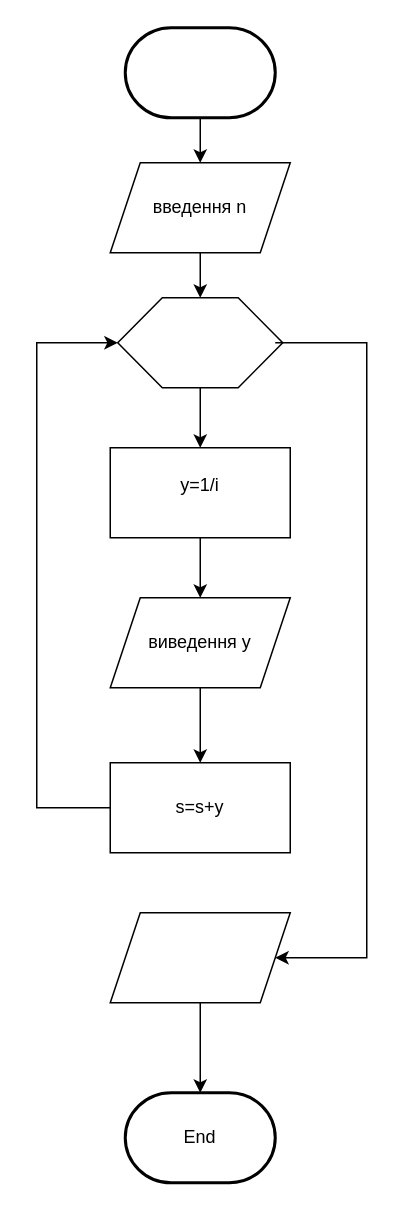
Image size: 405x1209. Some labels were removed from this diagram. The box of each missing label's shape, as (x1, y1, x2, y2) in pixels:
i=1;i<=n;i++: (116, 296, 283, 388)
Start: (123, 26, 276, 118)
виведення s: (109, 911, 290, 1003)
